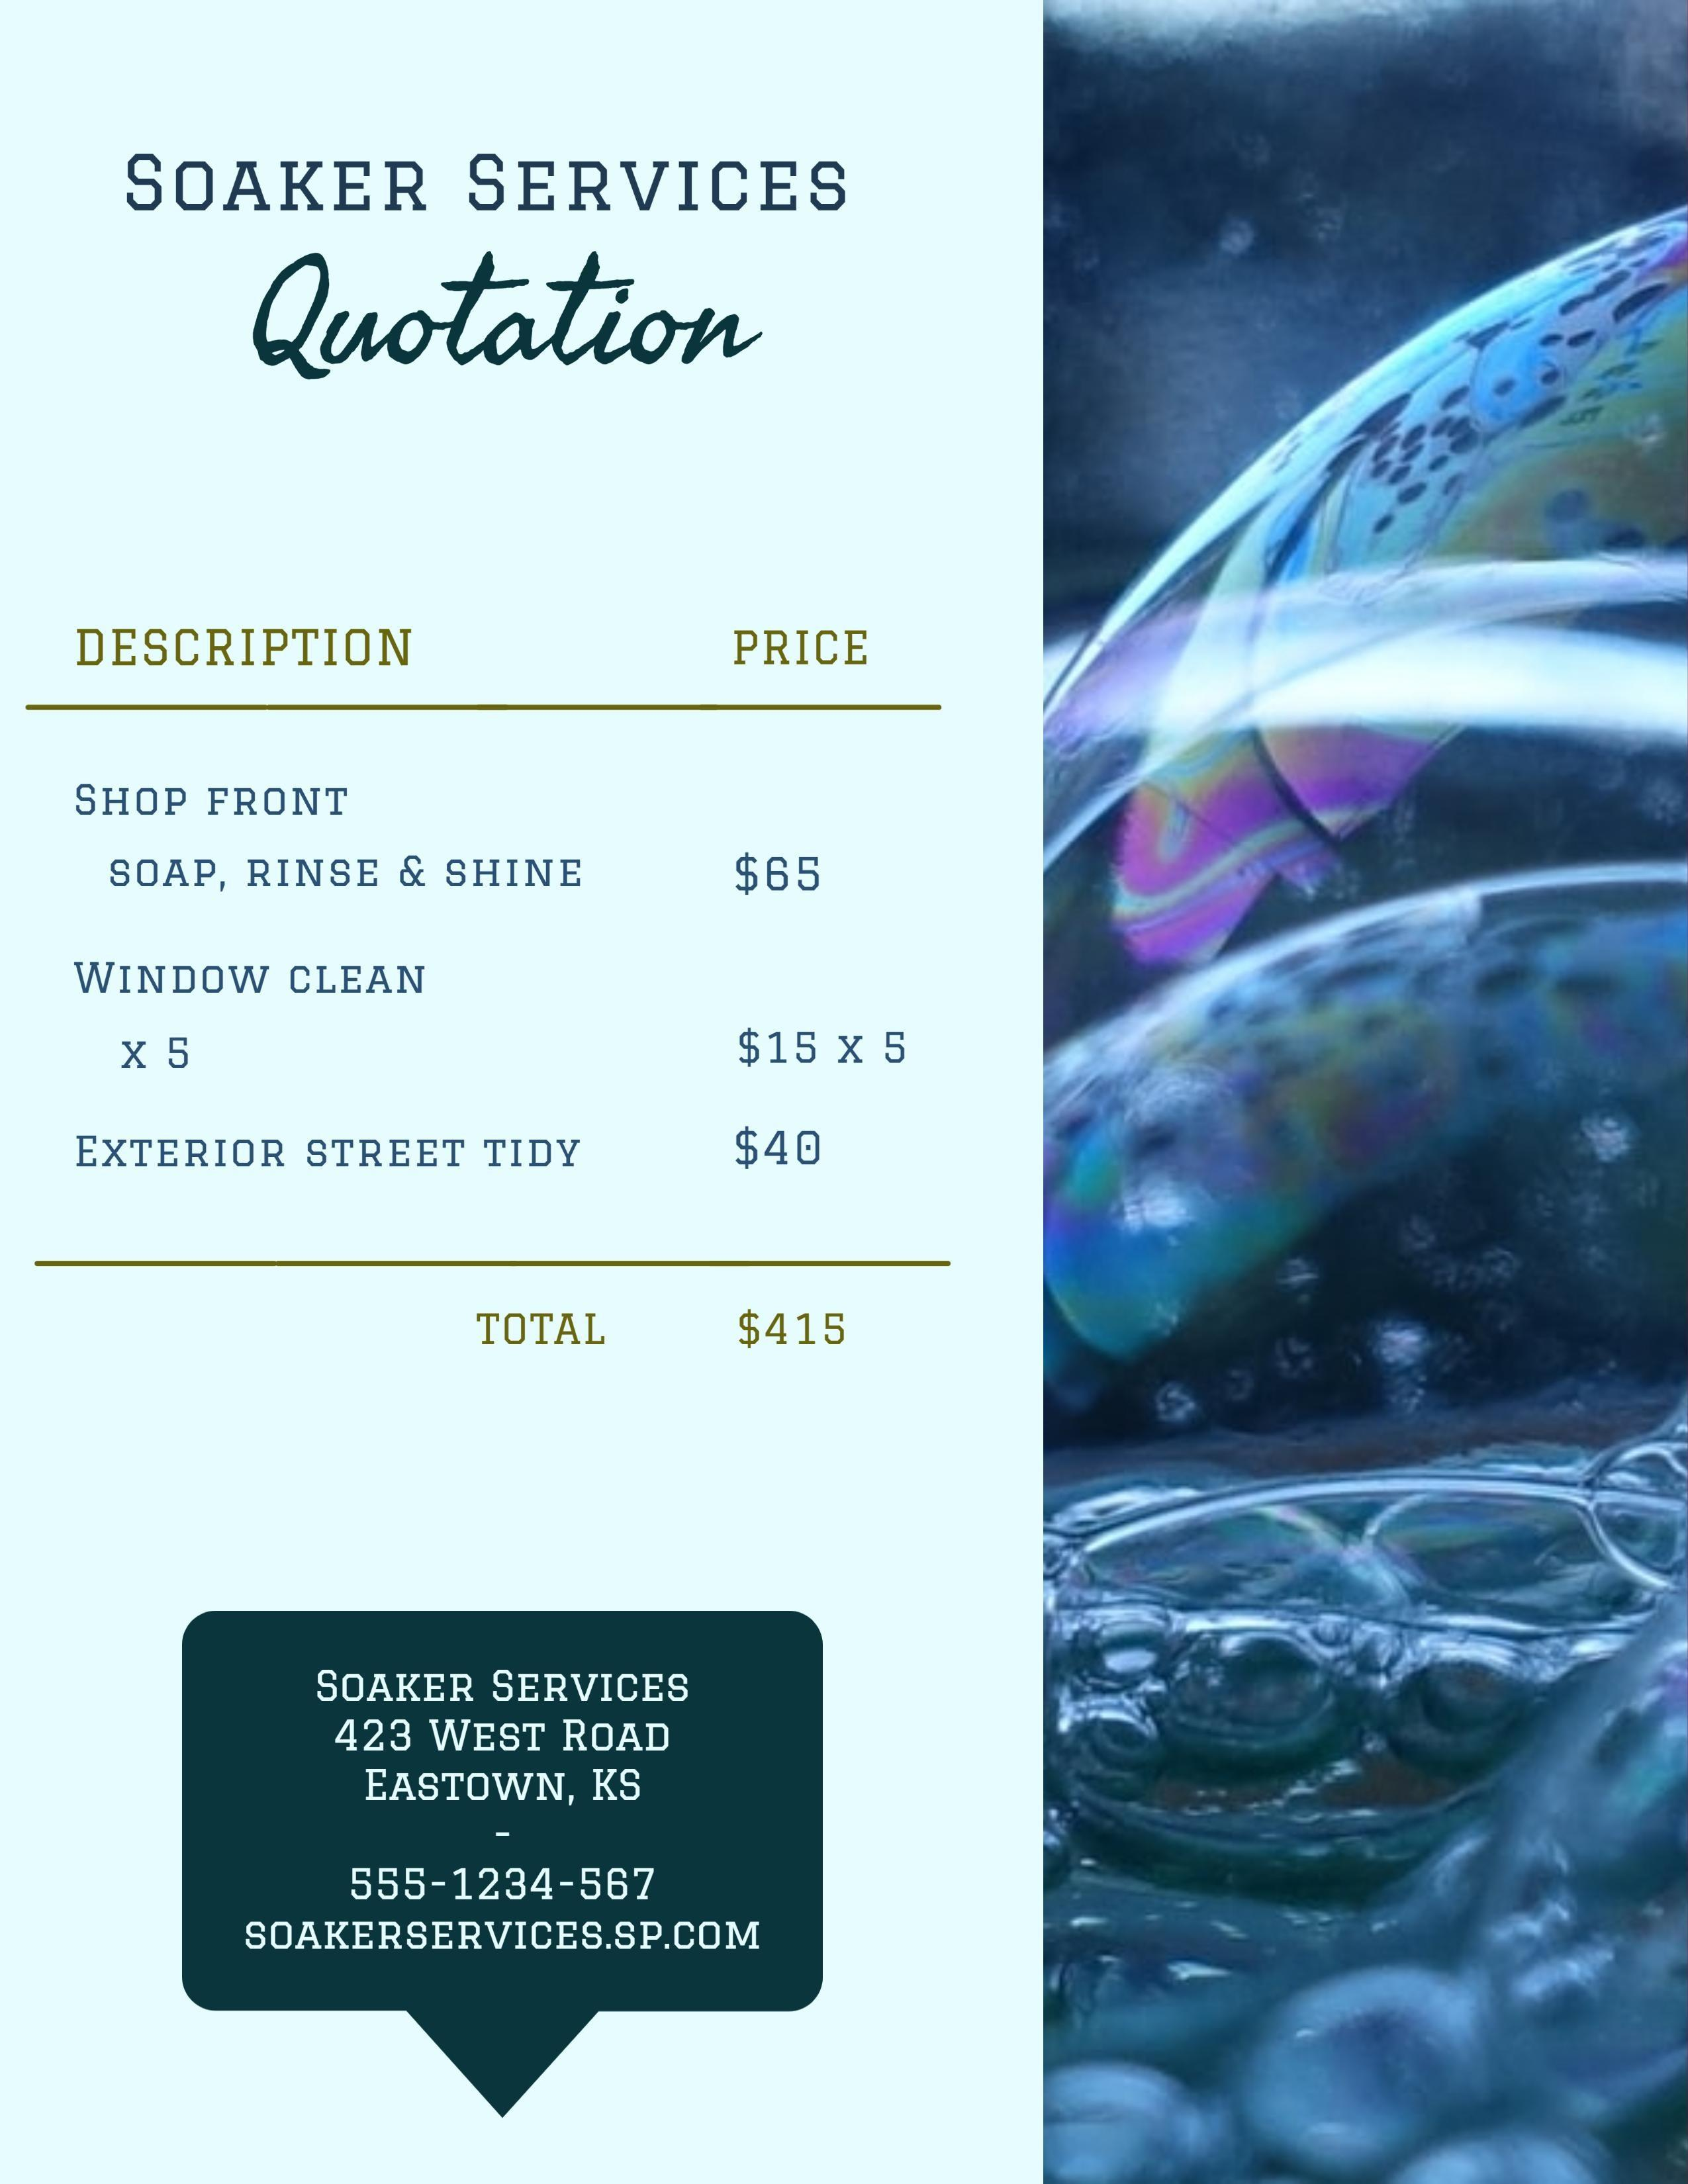ROI: (12, 603, 964, 1242), (104, 130, 919, 236), (447, 1272, 904, 1403)
